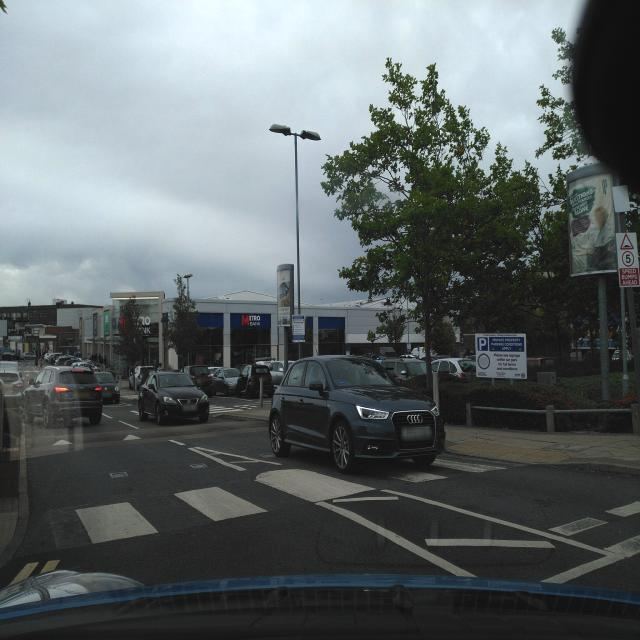car: (268, 353, 446, 473), (22, 367, 104, 427), (137, 370, 210, 425), (376, 356, 425, 387), (421, 357, 476, 383), (236, 363, 274, 399), (182, 364, 215, 398), (0, 368, 25, 412), (211, 367, 243, 398), (268, 359, 297, 393), (92, 371, 121, 404), (128, 366, 156, 391), (609, 349, 635, 372), (71, 361, 94, 372), (205, 364, 222, 376), (56, 355, 74, 366), (44, 352, 59, 365), (23, 352, 36, 361)
